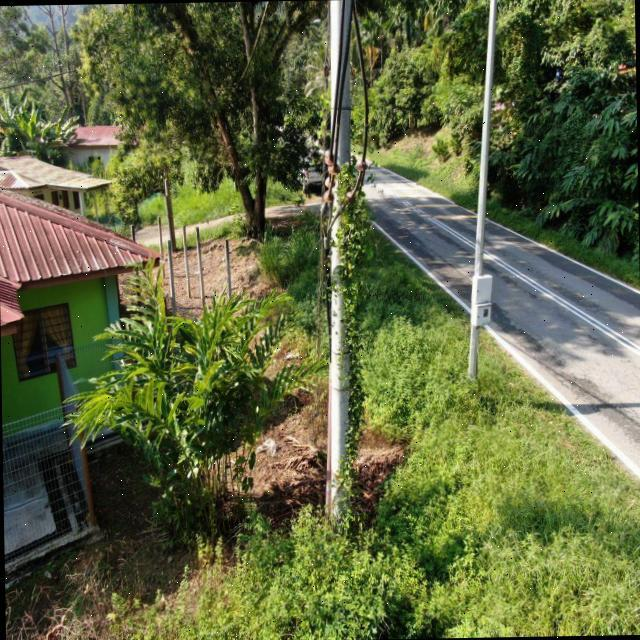critical vegetation: (308, 148, 378, 518)
